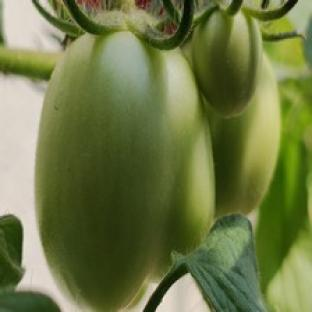Tomato: (35, 31, 214, 311), (209, 58, 281, 214), (191, 10, 263, 116)
